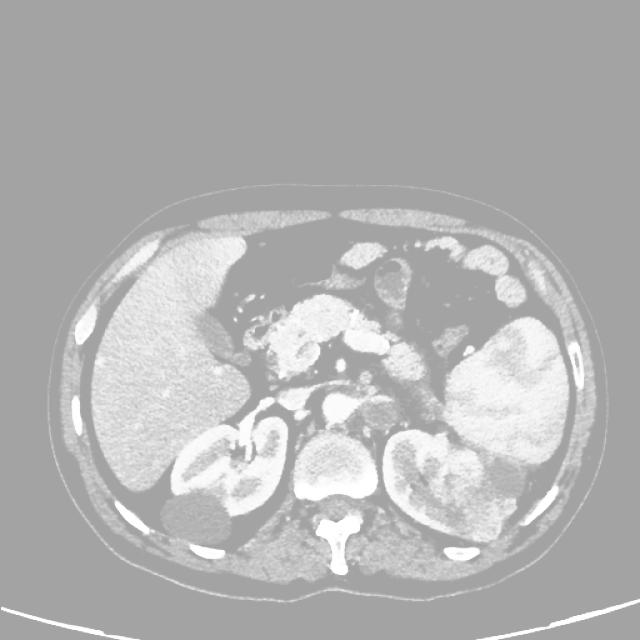TUMOR: (118, 238, 593, 532)
